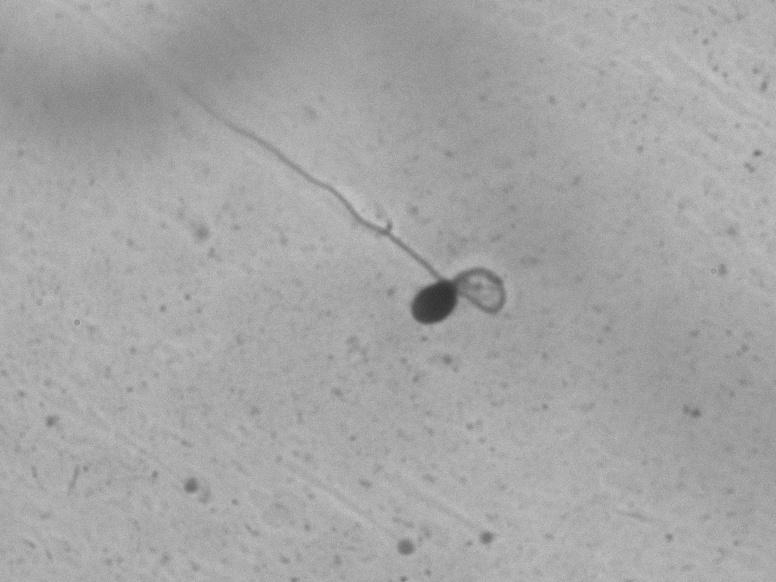Abnormal: (116, 71, 555, 368)
